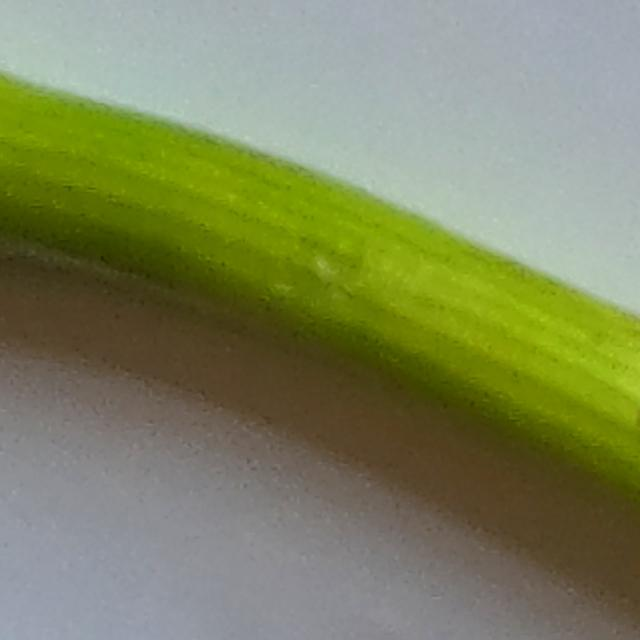green_onion: (0, 75, 640, 531)
